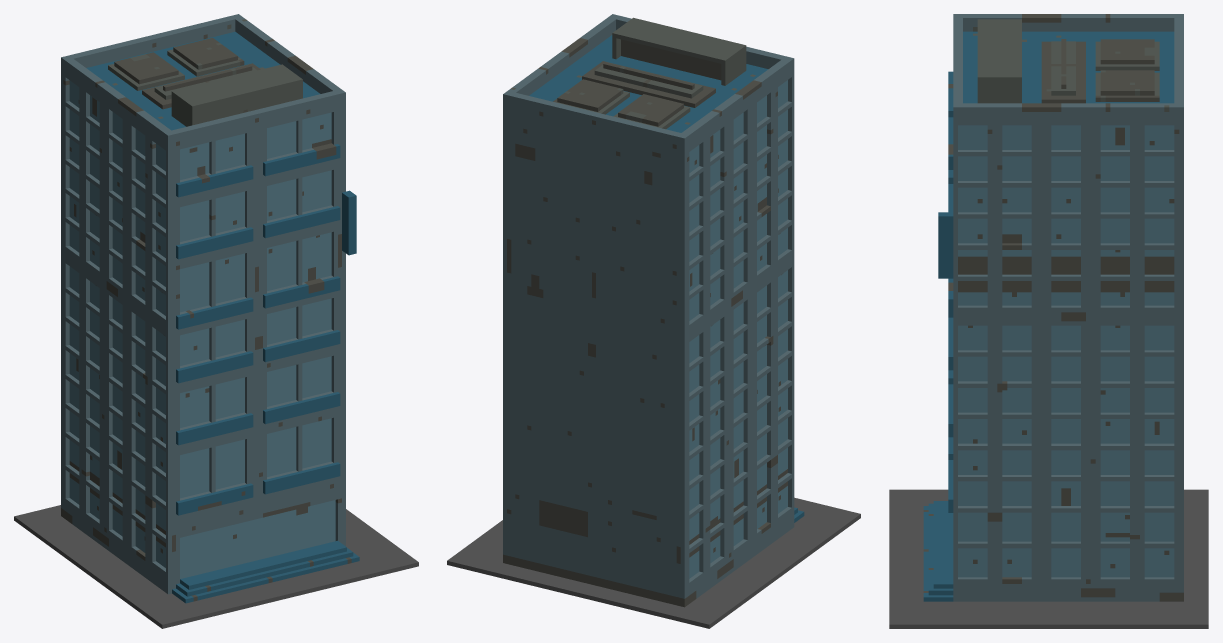
The model's file is building3.obj.
3 renders of one model, left to right at view 1: azimuth 30°, elevation 25°; view 2: azimuth 150°, elevation 25°; view 3: azimuth 270°, elevation 25°, orthographic. The views are drawn at different scales.
Bounding box in the file's own units: 6.5 × 11.5 × 6.5.
Materials: 1 (1 with a texture image).
